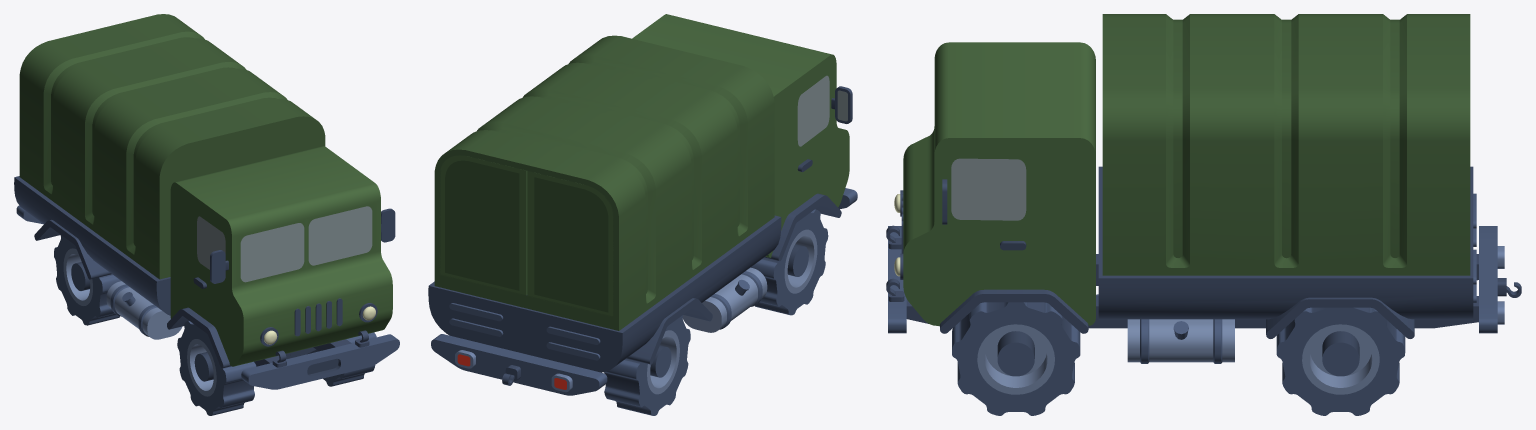
The model's file is Military Bus.fbx.
The picture shows the model from 3 angles, left to right: view 1: azimuth 30°, elevation 25°; view 2: azimuth 150°, elevation 25°; view 3: azimuth 270°, elevation 25°; orthographic projection. The views are drawn at different scales.
Parts seen in each view (by area): view 1: Military Bus, Tractor Wheel.012, Tractor Wheel.014, Tractor Wheel.013; view 2: Military Bus, Cube.004, Cube.007, Tractor Wheel.014, Tractor Wheel.012; view 3: Military Bus, Tractor Wheel.013, Tractor Wheel.014.
Part boxes in pixels (left/top/right/bottom): Military Bus: left=14, top=14, right=399, bottom=389; Tractor Wheel.012: left=177, top=321, right=256, bottom=415; Tractor Wheel.014: left=54, top=235, right=120, bottom=325; Tractor Wheel.013: left=306, top=332, right=376, bottom=386; Military Bus: left=428, top=14, right=857, bottom=395; Cube.004: left=439, top=155, right=527, bottom=294; Cube.007: left=527, top=171, right=613, bottom=316; Tractor Wheel.014: left=604, top=315, right=690, bottom=415; Tractor Wheel.012: left=751, top=209, right=828, bottom=315; Military Bus: left=886, top=14, right=1521, bottom=363; Tractor Wheel.013: left=952, top=302, right=1080, bottom=415; Tractor Wheel.014: left=1276, top=307, right=1405, bottom=415.
Size of the model in its own units: 3.19 by 3.96 by 7.28.
